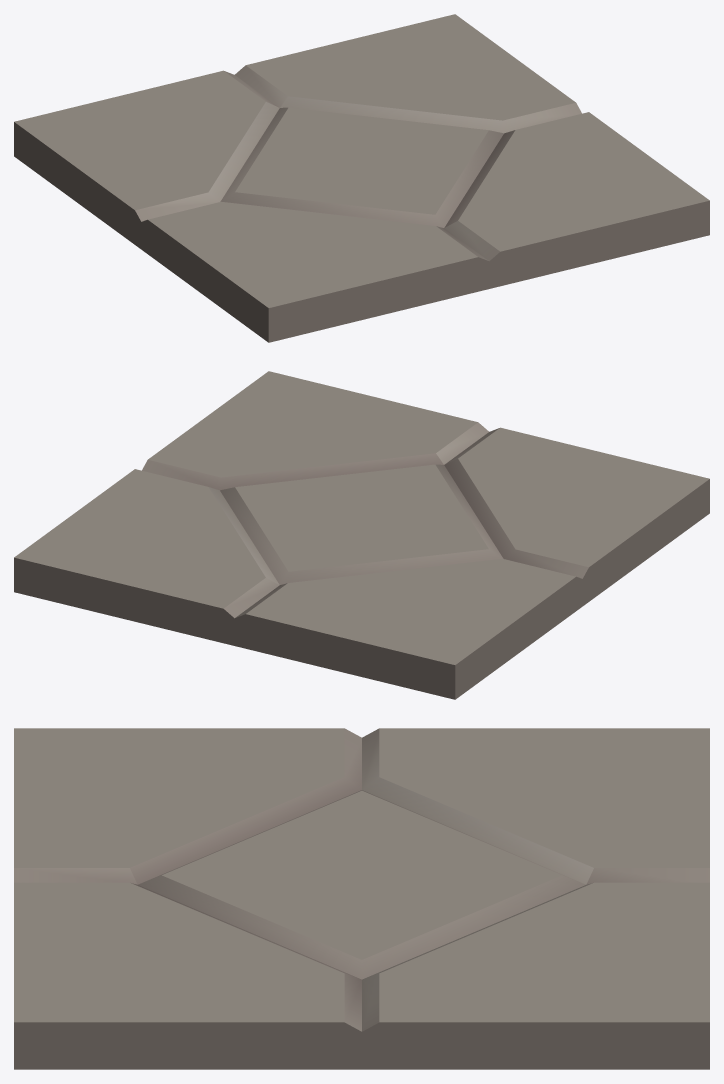
Rendered from floor_a.fbx.
The picture shows the model from 3 angles, top to bottom: view 1: azimuth 30°, elevation 25°; view 2: azimuth 150°, elevation 25°; view 3: azimuth 270°, elevation 25°; orthographic projection. The views are drawn at different scales.
Visible parts, largest first — view 1: floor_tile_small; view 2: floor_tile_small; view 3: floor_tile_small.
Part boxes in pixels (x1,y1,x2,y2): floor_tile_small: (14, 14, 709, 342); floor_tile_small: (14, 371, 709, 699); floor_tile_small: (14, 728, 709, 1069).
Bounding box in the file's own units: 200 × 15 × 200.
Materials: 1 (1 with a texture image).
